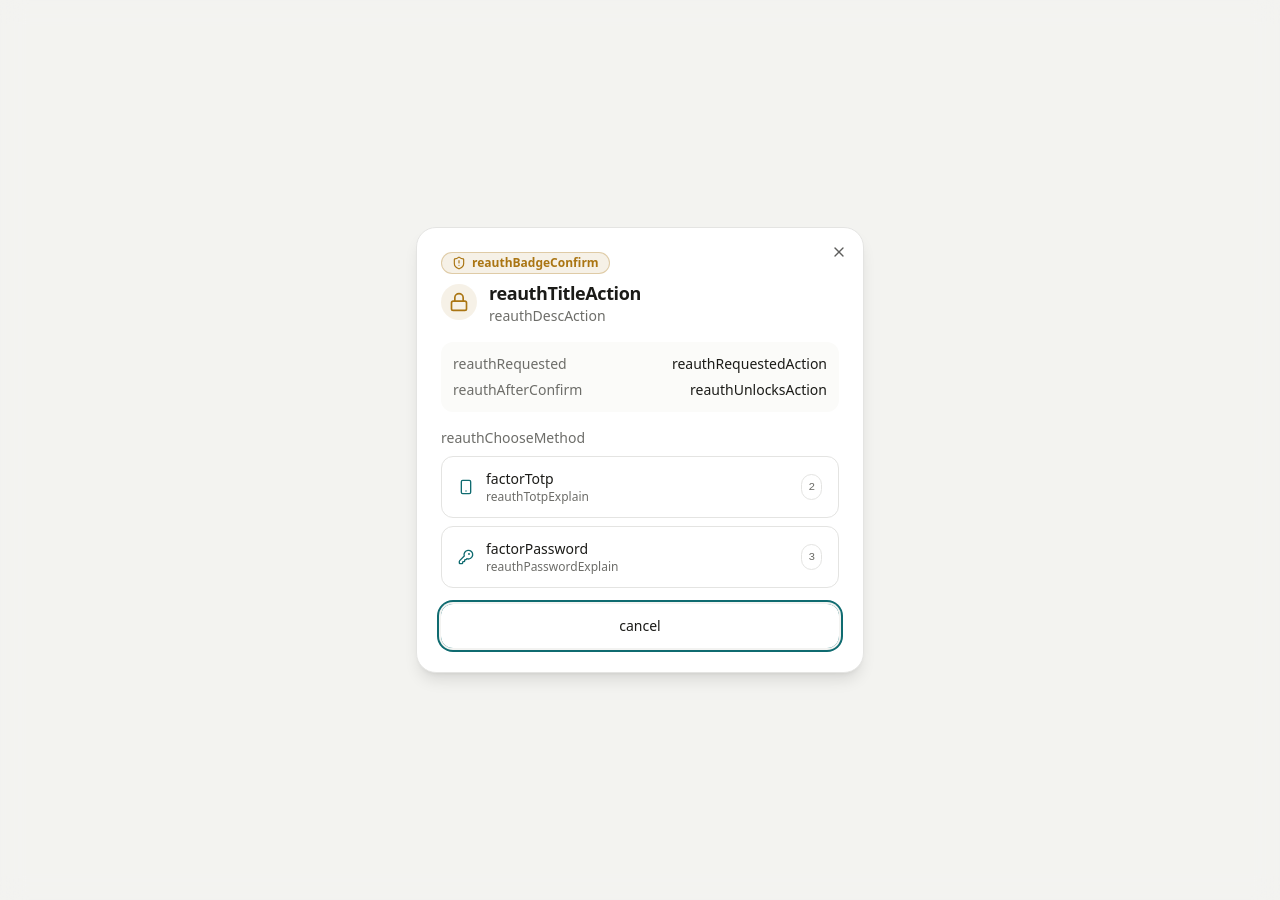
Test: StepUpProvider › the reason shown for a failed verification › falls back to a local message when the request never reached the server
This screenshot has width=1280, height=900.
Click the text "factorTotp" at [520, 479], box left=486, top=469, right=554, bottom=489
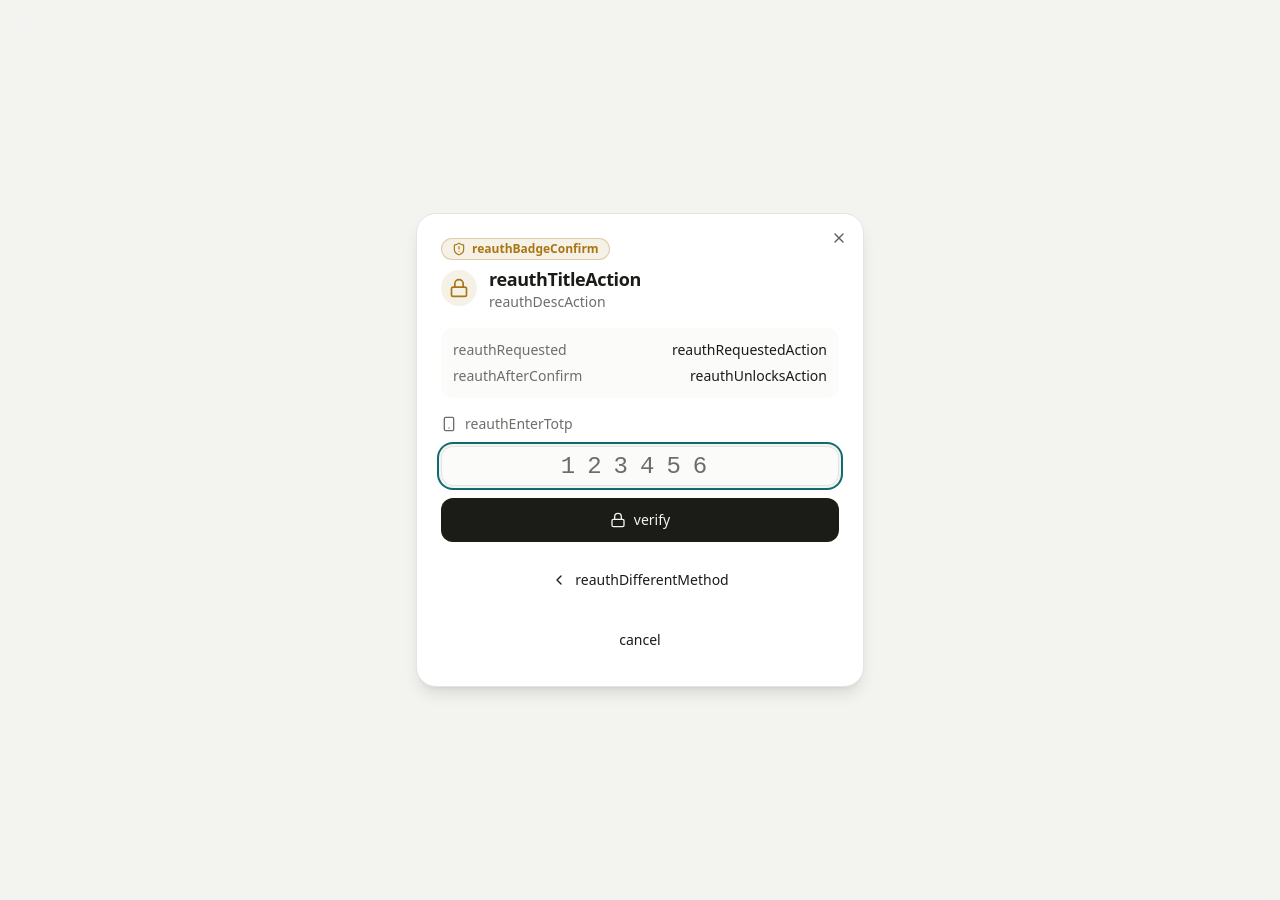
Submit the form, box left=441, top=414, right=839, bottom=542
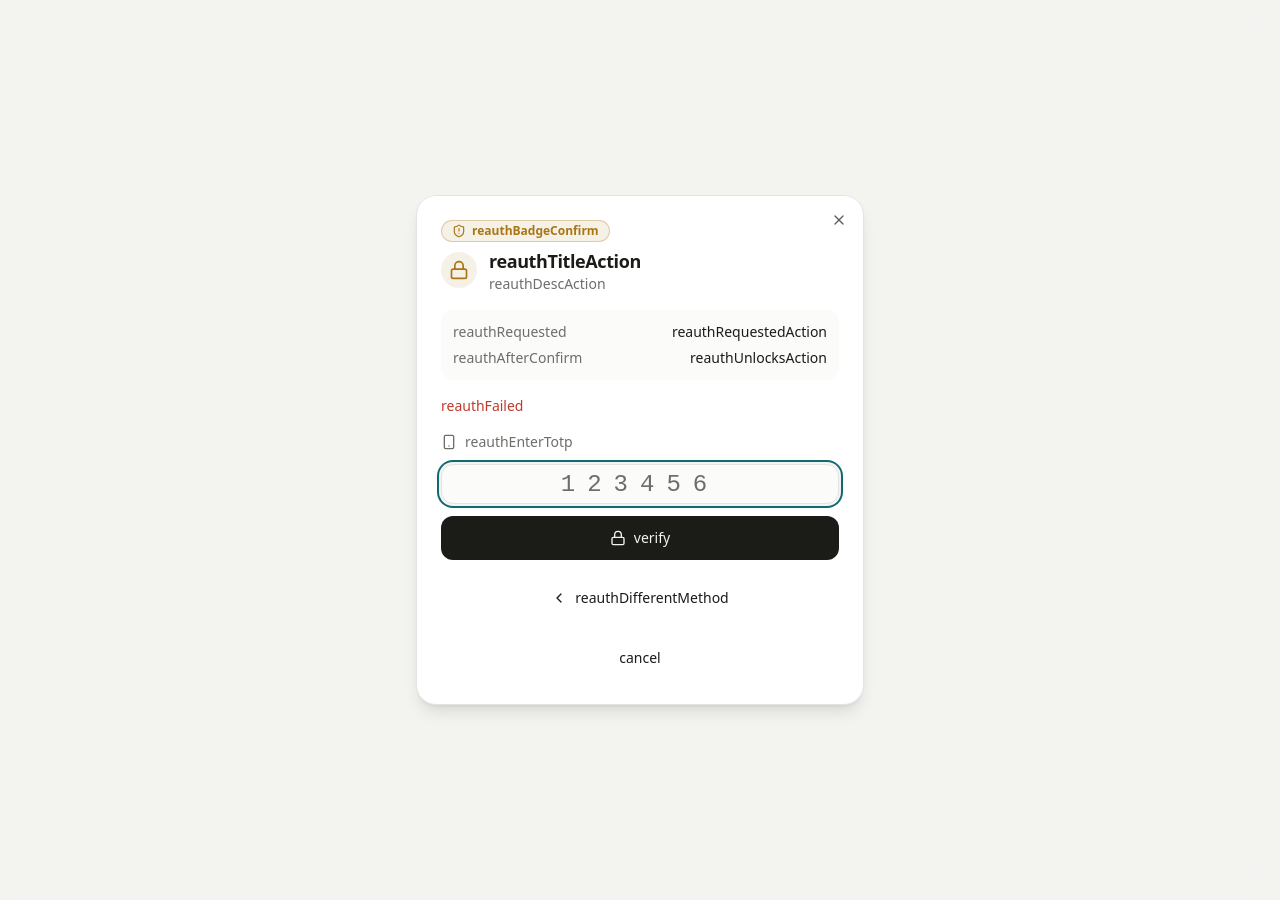
Expected: the text "reauthFailed" is shown, left=441, top=396, right=524, bottom=415
